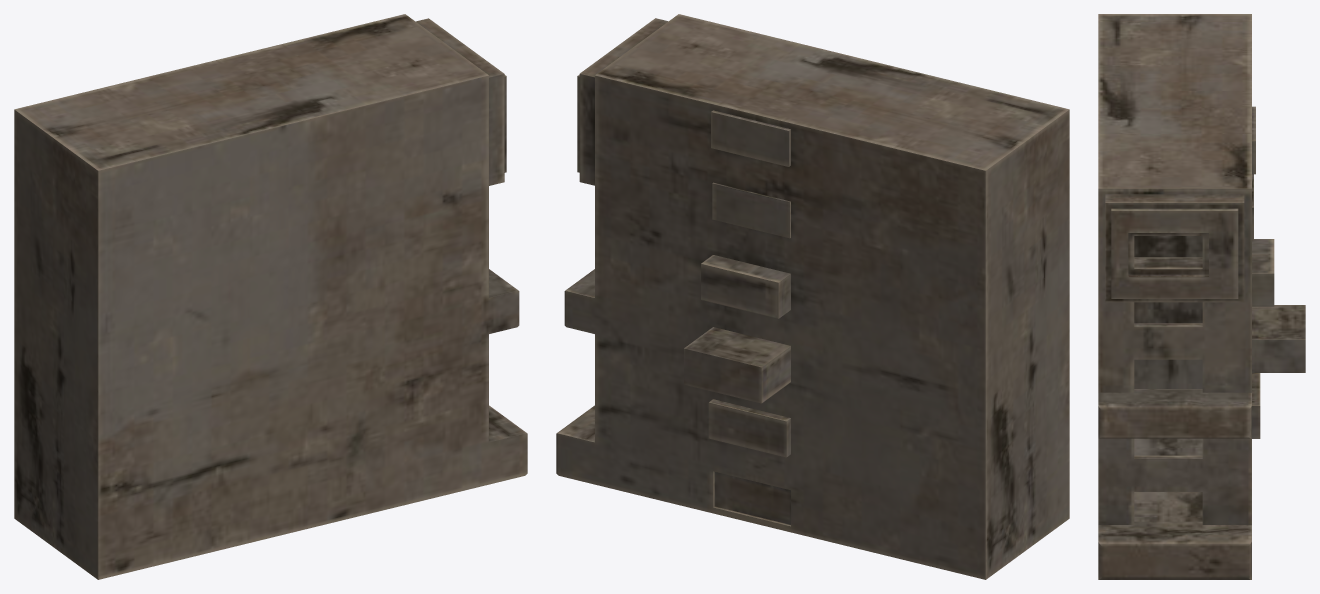
Rendered from bld_d.glb.
3 views of the same model, side by side, from view 1: azimuth 30°, elevation 25°; view 2: azimuth 150°, elevation 25°; view 3: azimuth 270°, elevation 25° (orthographic). The views are drawn at different scales.
Visible parts, largest first — view 1: Building_08_Building_008_0; view 2: Building_08_Building_008_0; view 3: Building_08_Building_008_0.
Boxes of the visible parts, left/top/right/bottom form: Building_08_Building_008_0: left=14, top=14, right=527, bottom=579; Building_08_Building_008_0: left=556, top=14, right=1069, bottom=579; Building_08_Building_008_0: left=1098, top=14, right=1305, bottom=579.
Size of the model in its own units: 9 by 8.16 by 4.09.
Materials: 1 (1 with a texture image).
